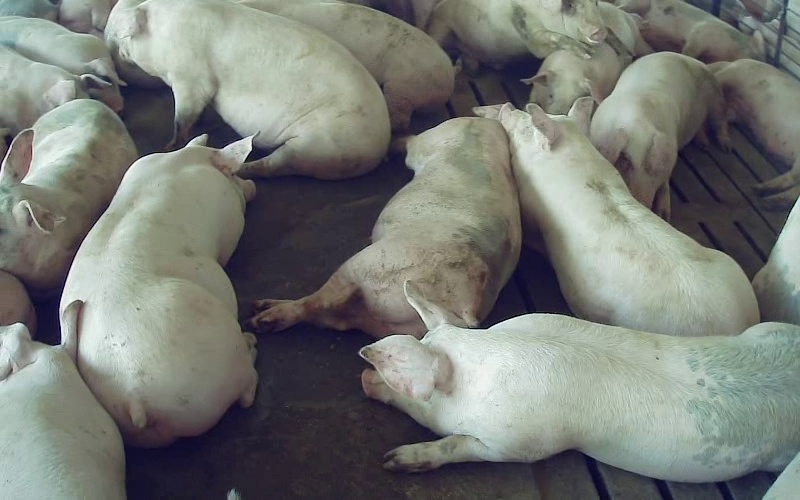pig: (360, 282, 799, 481), (251, 105, 520, 337), (498, 98, 758, 335), (61, 135, 255, 446), (106, 0, 390, 178), (242, 0, 454, 129), (0, 99, 137, 294), (0, 301, 124, 499), (590, 52, 729, 220), (709, 59, 799, 207), (426, 0, 606, 69), (0, 45, 110, 135), (615, 0, 765, 62), (523, 42, 630, 114)
